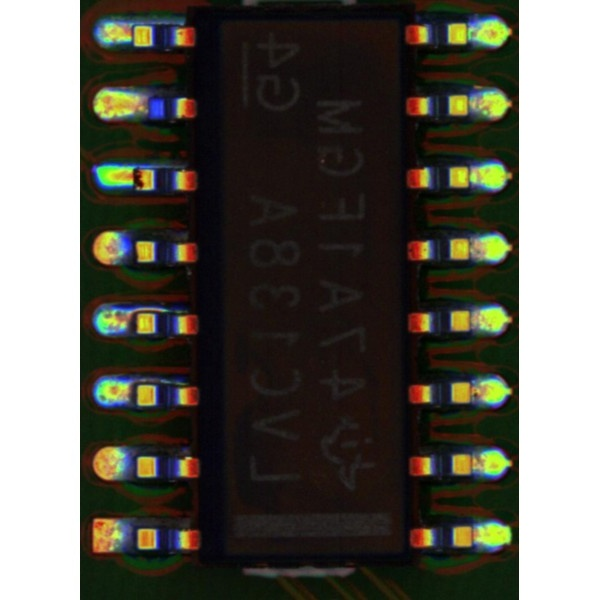Bad_podu: (120, 26, 149, 39)
Bad_qiaojiao: (131, 378, 187, 386), (136, 161, 183, 170), (133, 305, 185, 312)
